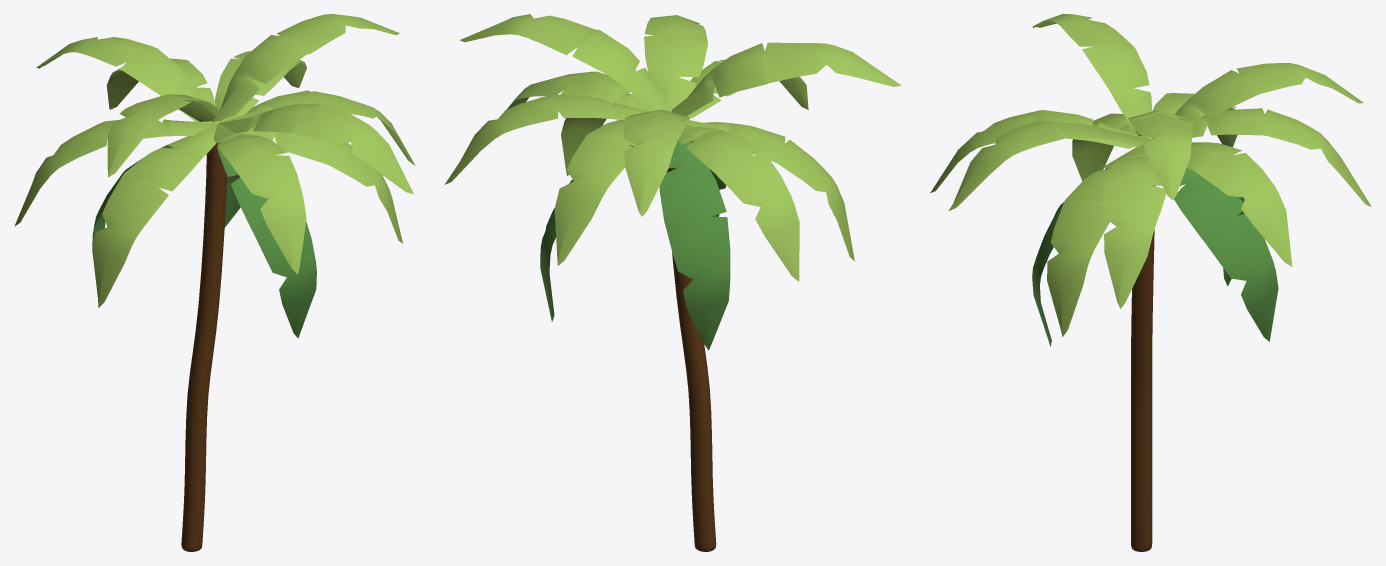
File: Palm_H_01.fbx
3 renders of one model, left to right at view 1: azimuth 30°, elevation 25°; view 2: azimuth 150°, elevation 25°; view 3: azimuth 270°, elevation 25°, orthographic. The views are drawn at different scales.
Visible parts, largest first — view 1: Palm_H_01; view 2: Palm_H_01; view 3: Palm_H_01.
Part boxes in pixels (bbox=[...]): Palm_H_01: bbox=[14, 14, 415, 551]; Palm_H_01: bbox=[444, 14, 901, 551]; Palm_H_01: bbox=[930, 14, 1371, 551].
Size of the model in its own units: 728 by 933 by 755.
